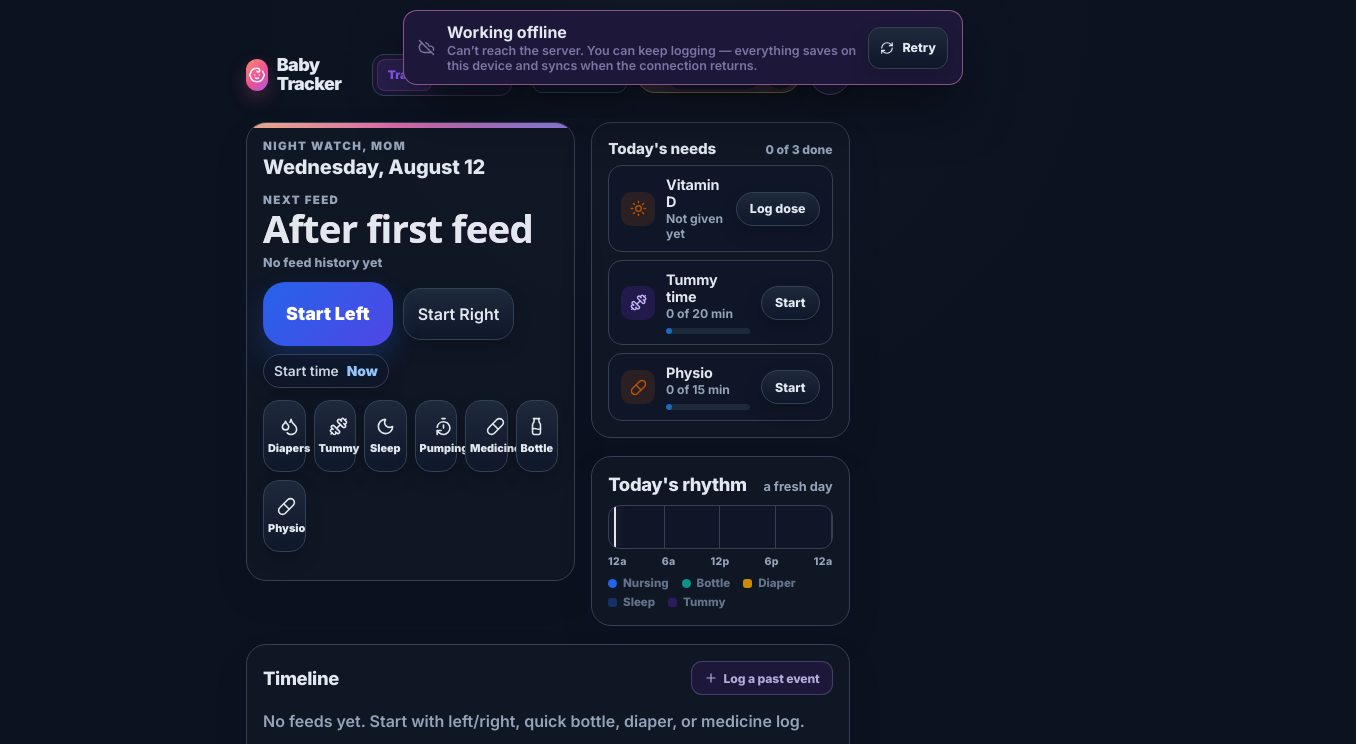
Test: caregiver-defined timers › refuses to start alongside another timer
Click the button with aria-label "Start suggested side: Left" at (328, 314), box [263, 282, 393, 346]
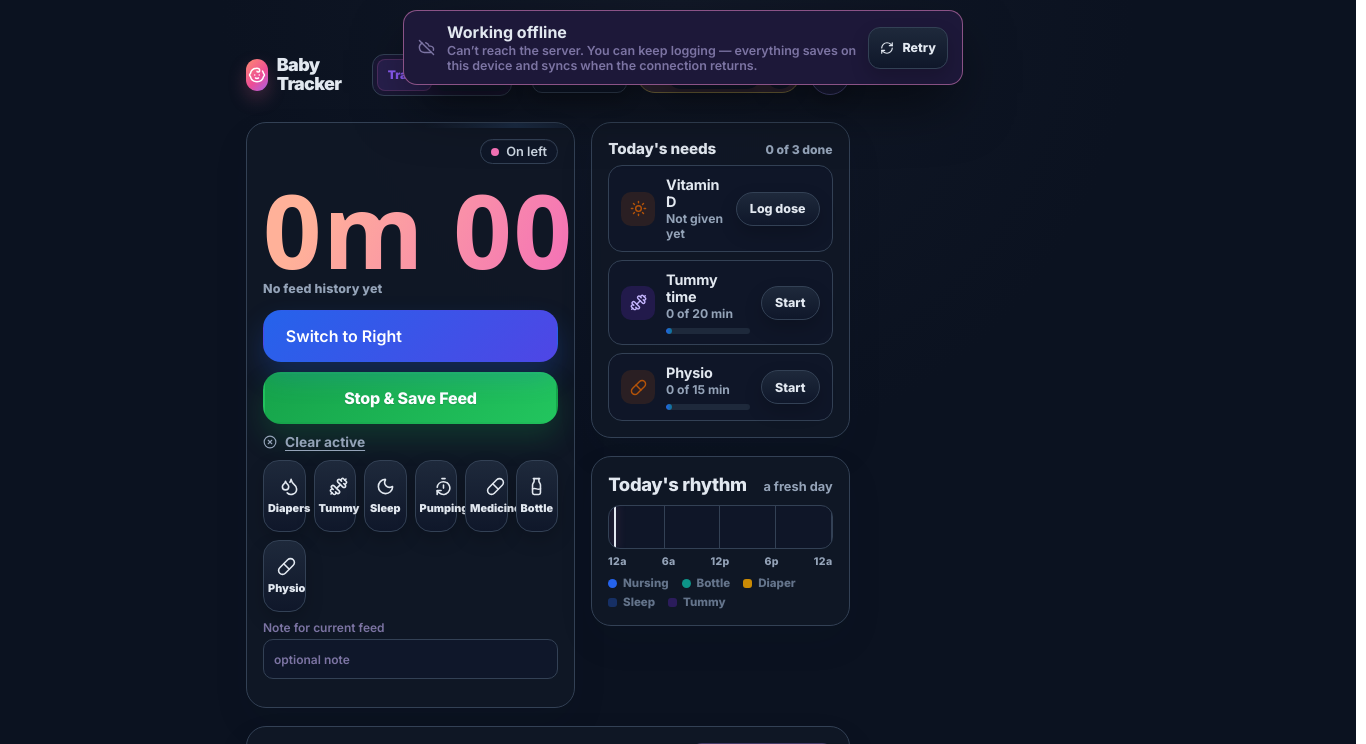
Click the button with aria-label "Start Physio timer" at (790, 387), box [761, 370, 820, 404]
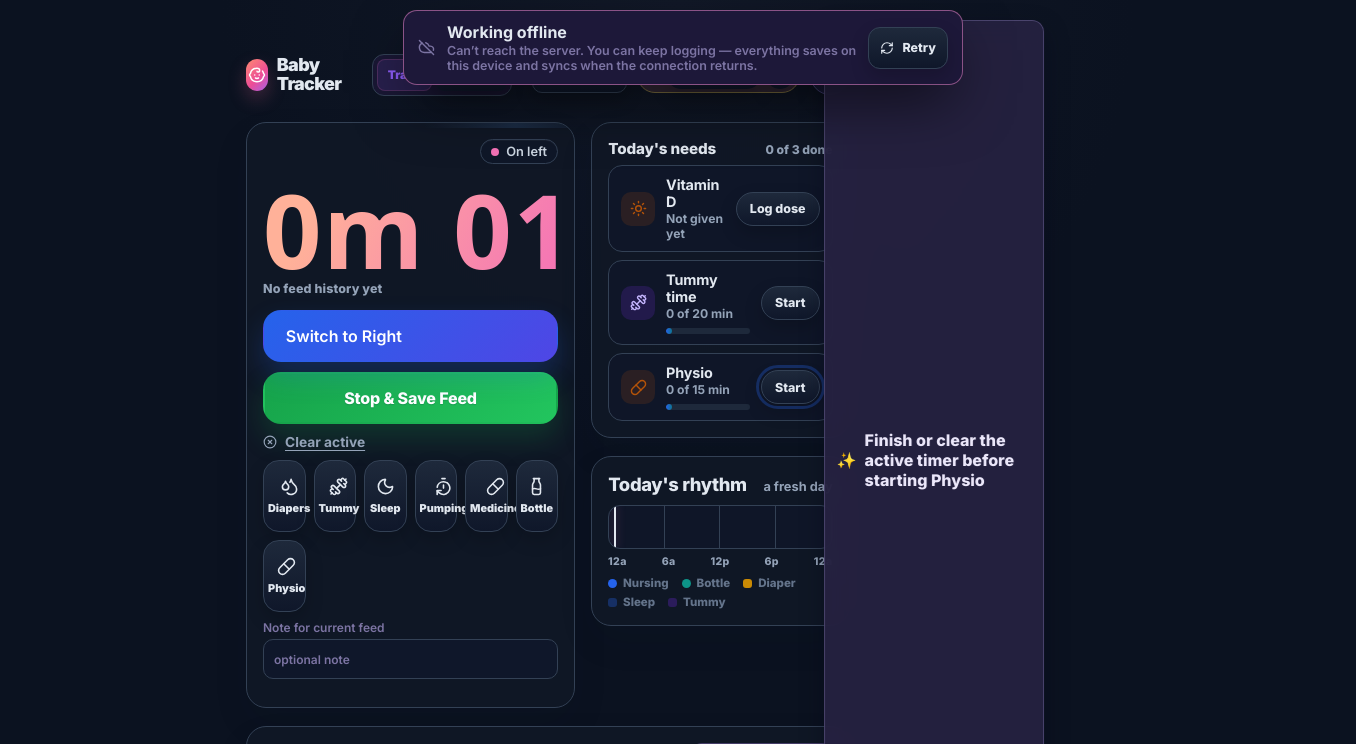
Expected: the text "Finish or clear the active timer before starting Physio" is shown, [865, 430, 1031, 490]
